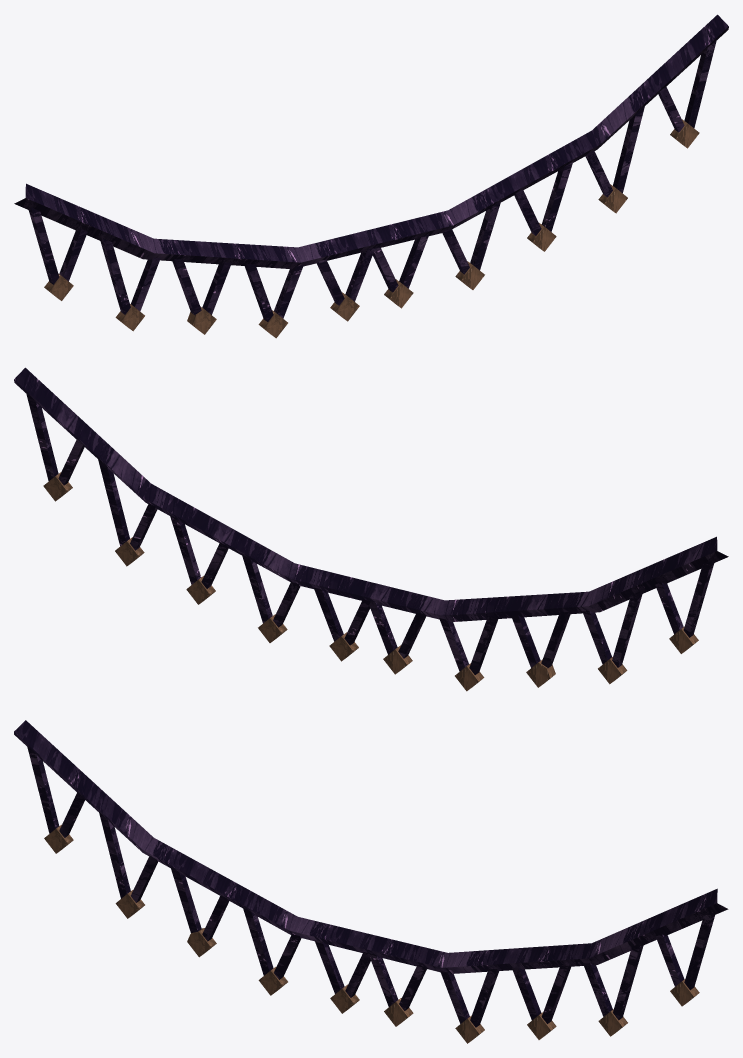
File: Fence_01_Art.glb
3 renders of one model, top to bottom at view 1: azimuth 30°, elevation 25°; view 2: azimuth 150°, elevation 25°; view 3: azimuth 330°, elevation 25°, orthographic.
Visible parts, largest first — view 1: Fence_01_Art; view 2: Fence_01_Art; view 3: Fence_01_Art.
Part boxes in pixels (box(x1,y1,x2,y2)): Fence_01_Art: box(14, 14, 728, 338); Fence_01_Art: box(14, 367, 728, 691); Fence_01_Art: box(14, 720, 728, 1043).
Size of what is drawn, in the model's own units: 2.45 by 0.7009 by 0.0697.
Materials: 2 (2 with a texture image).
